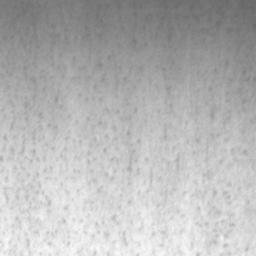Pitted surface: (127, 150, 137, 172), (209, 229, 218, 246), (122, 231, 128, 246), (175, 154, 179, 171)
